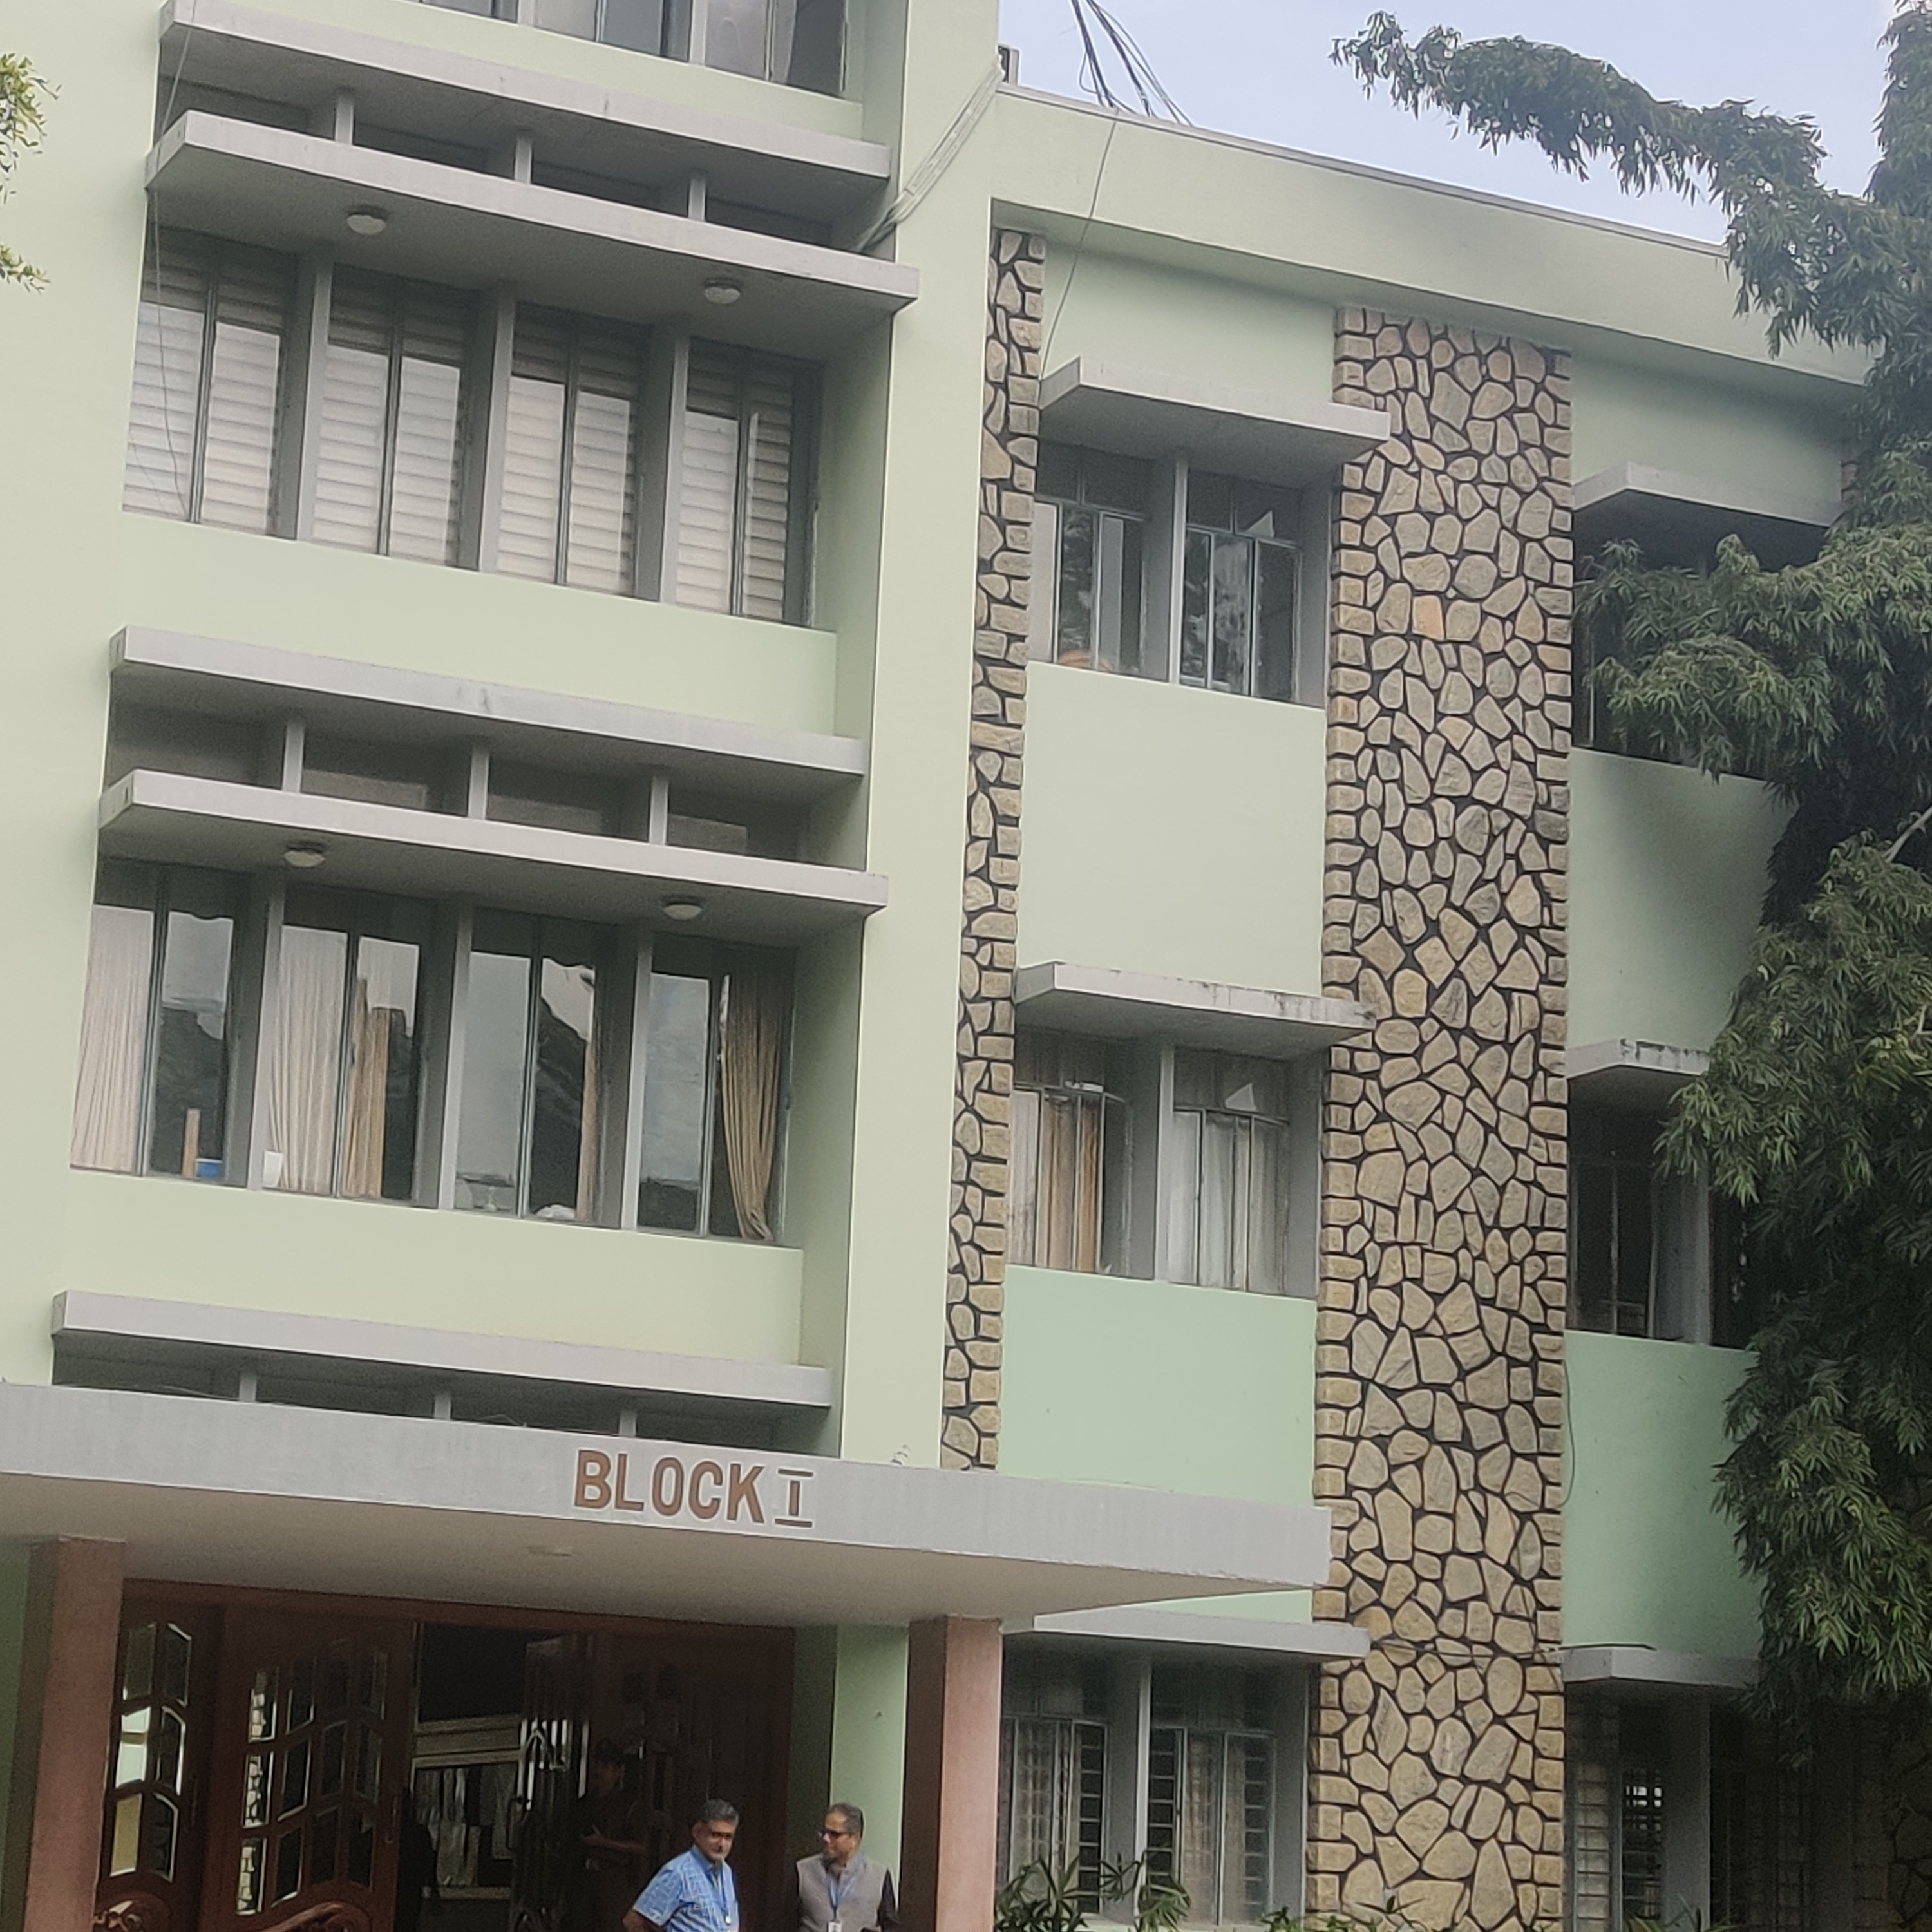Block 1: (57, 28, 1932, 1932)
